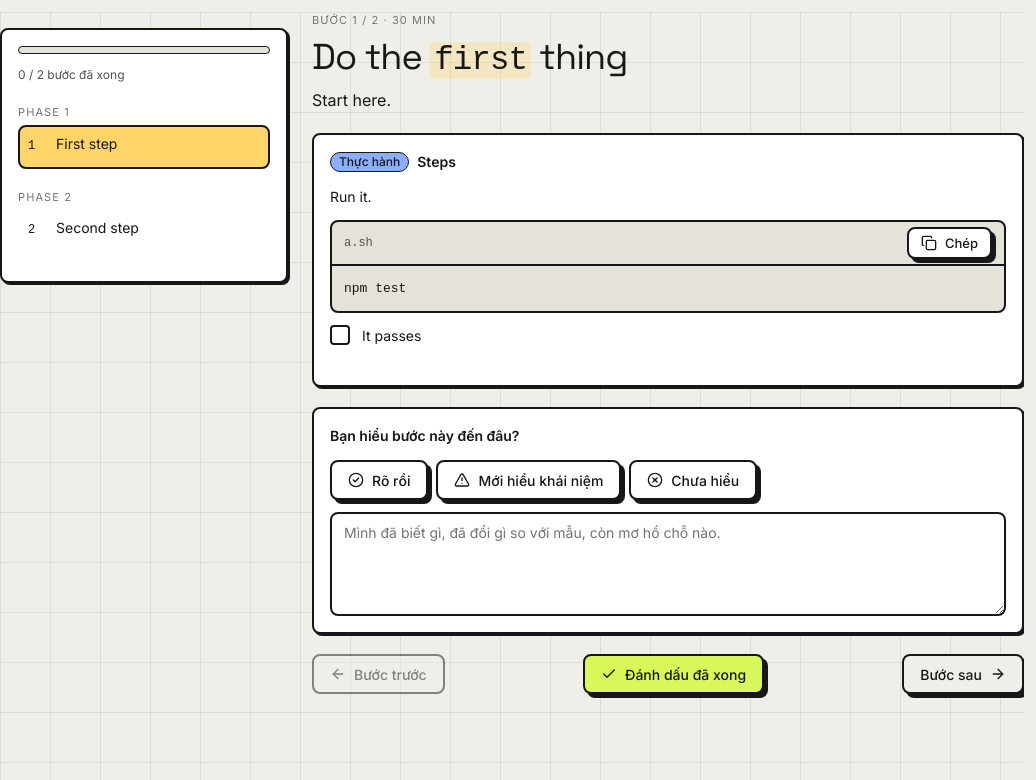
Scenario: StepTutor › marks a step done, advances, and updates progress
What coordinates should you click on to do the following:
click the button "Đánh dấu đã xong"
I would click on:
 (674, 674)
Its box is [583, 654, 764, 694].
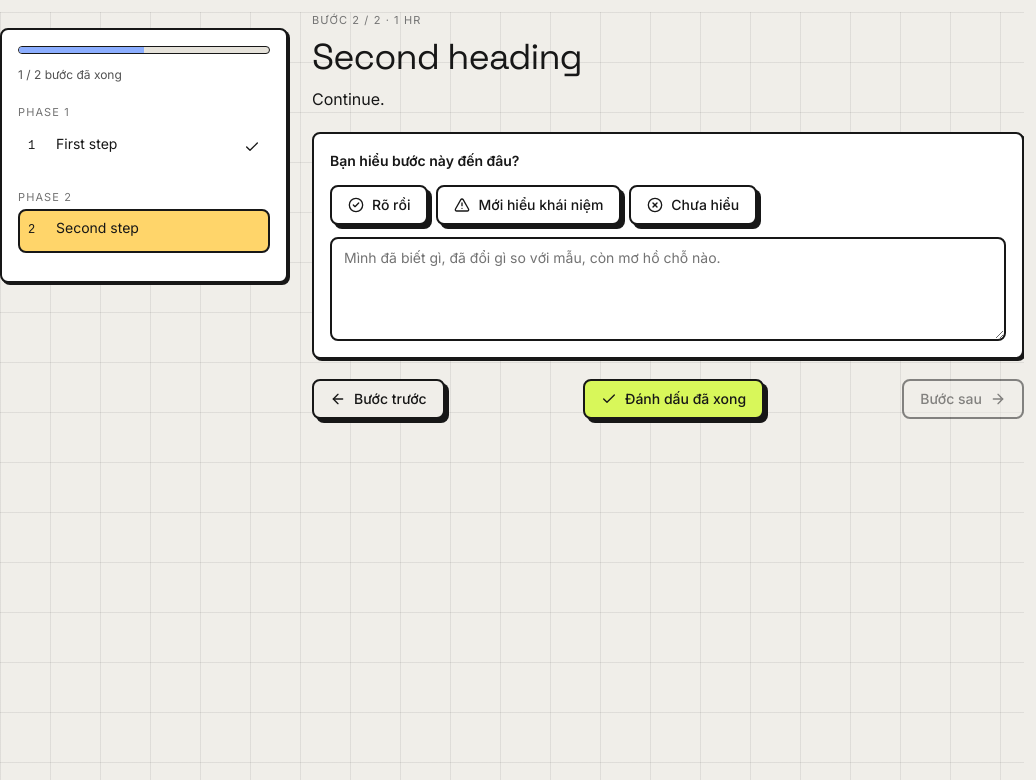
Expected: the heading "Second heading" is shown, [312, 34, 582, 80]
Expected: the text "1 / 2 bước đã xong" is shown, [18, 67, 122, 82]
